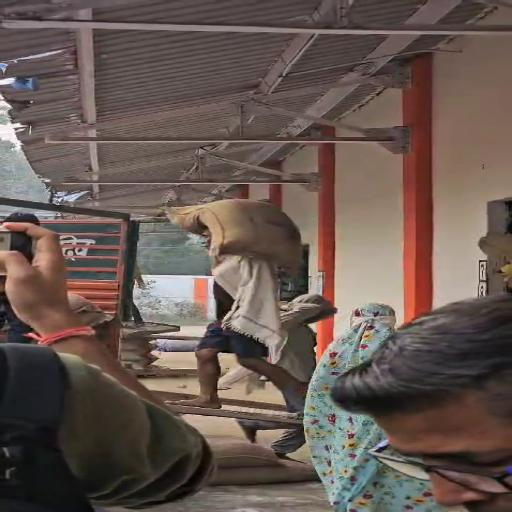bag: (164, 196, 312, 272)
